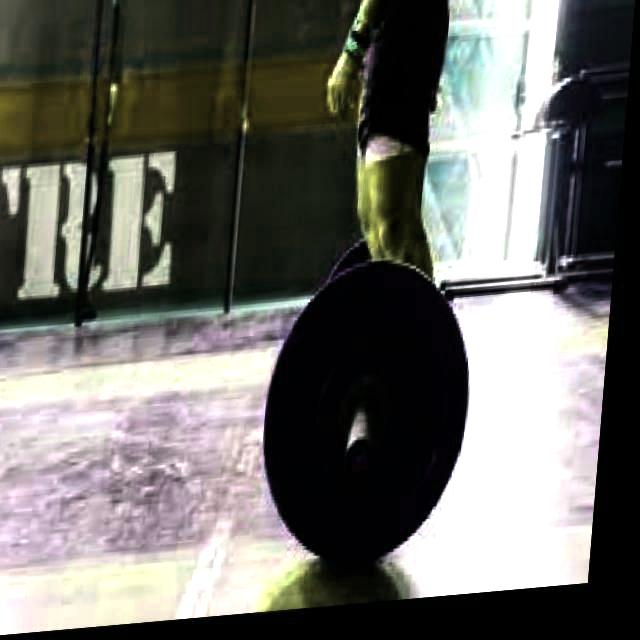barbell: (257, 248, 495, 587)
